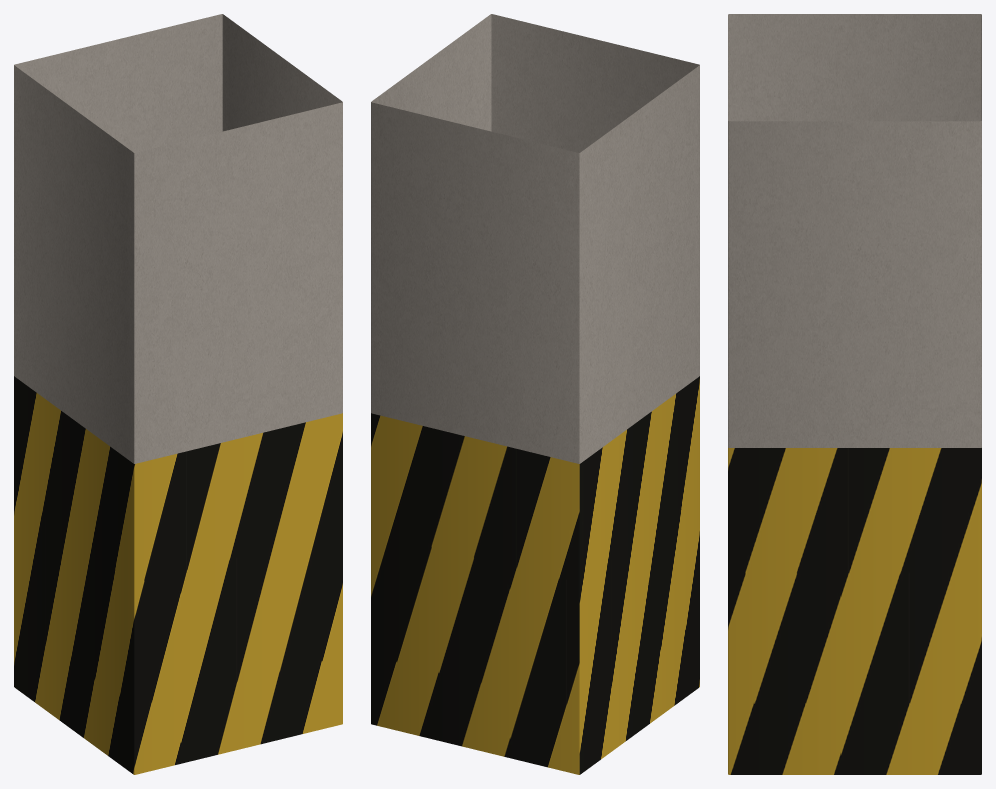
The model's file is Column_Big.FBX.
3 renders of one model, left to right at view 1: azimuth 30°, elevation 25°; view 2: azimuth 150°, elevation 25°; view 3: azimuth 270°, elevation 25°, orthographic. The views are drawn at different scales.
Parts seen in each view (by area): view 1: Column_Up, Column_Down; view 2: Column_Up, Column_Down; view 3: Column_Up, Column_Down.
Boxes of the visible parts, x1,y1,x2,y2 form: Column_Up: [14, 14, 342, 463]; Column_Down: [14, 376, 342, 774]; Column_Up: [371, 14, 699, 463]; Column_Down: [371, 376, 699, 774]; Column_Up: [728, 14, 981, 447]; Column_Down: [728, 448, 981, 774].
Bounding box in the file's own units: 703 × 2000 × 703.
